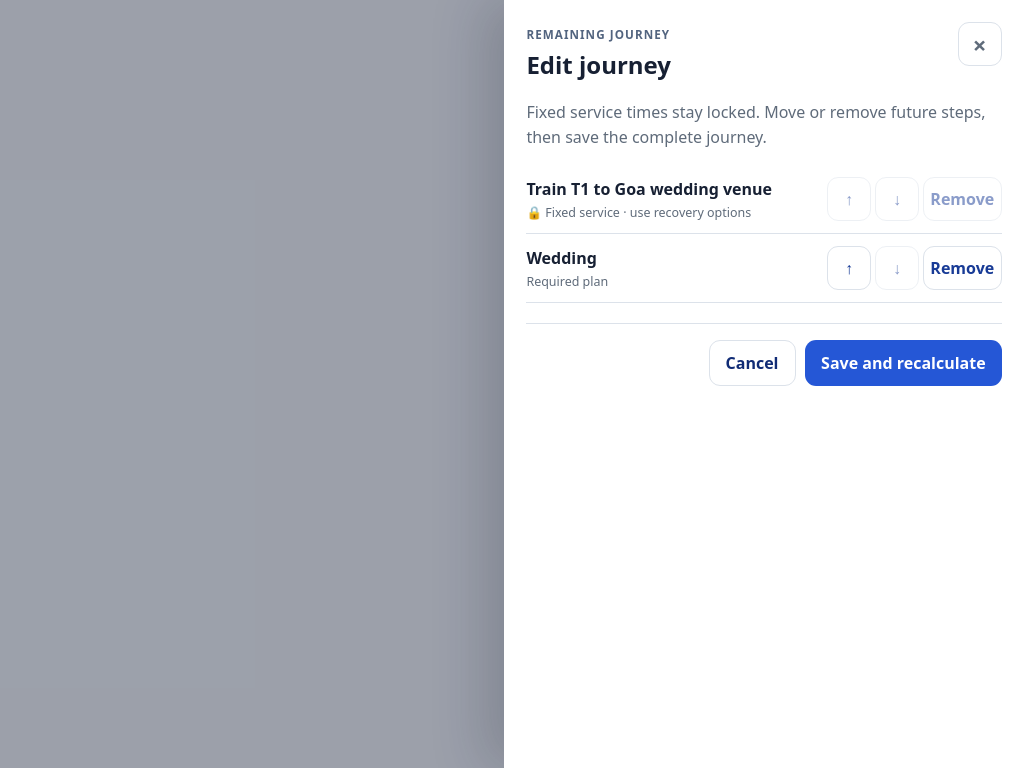
it: journey edit draft › keeps the edited draft and displays actionable validation failure
The image size is (1024, 768).
Click the button "Remove" in the row of "Required plan".
click(962, 268)  # box [923, 246, 1002, 290]
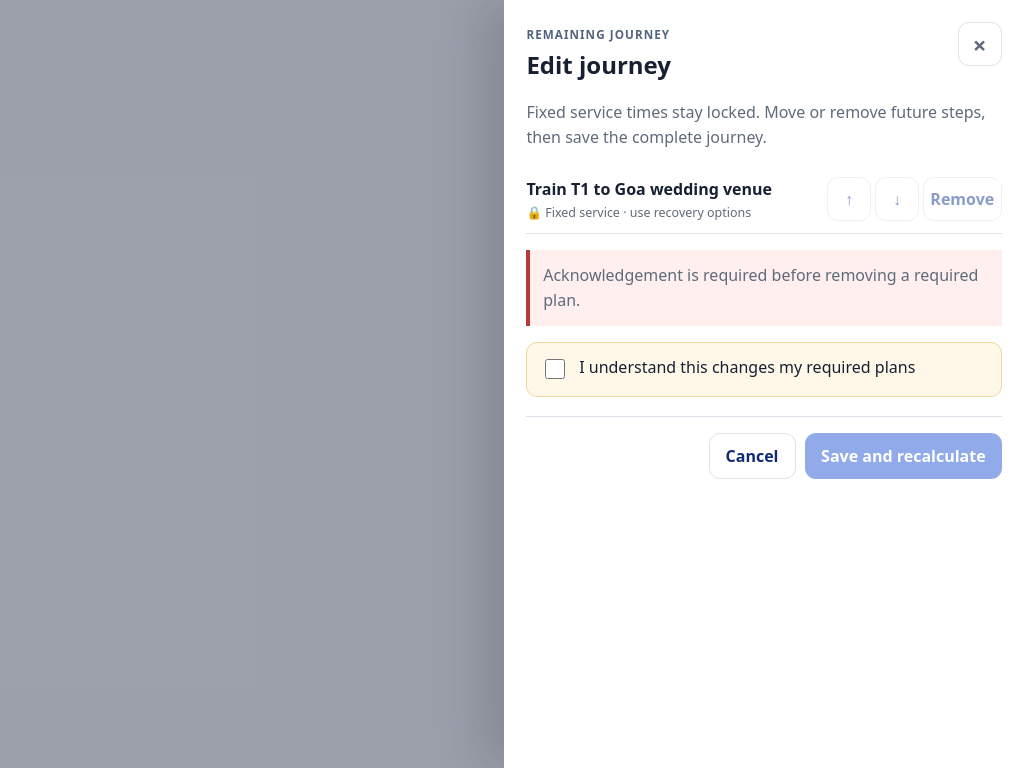
Click the checkbox.
click(555, 369)  # box [545, 359, 565, 379]
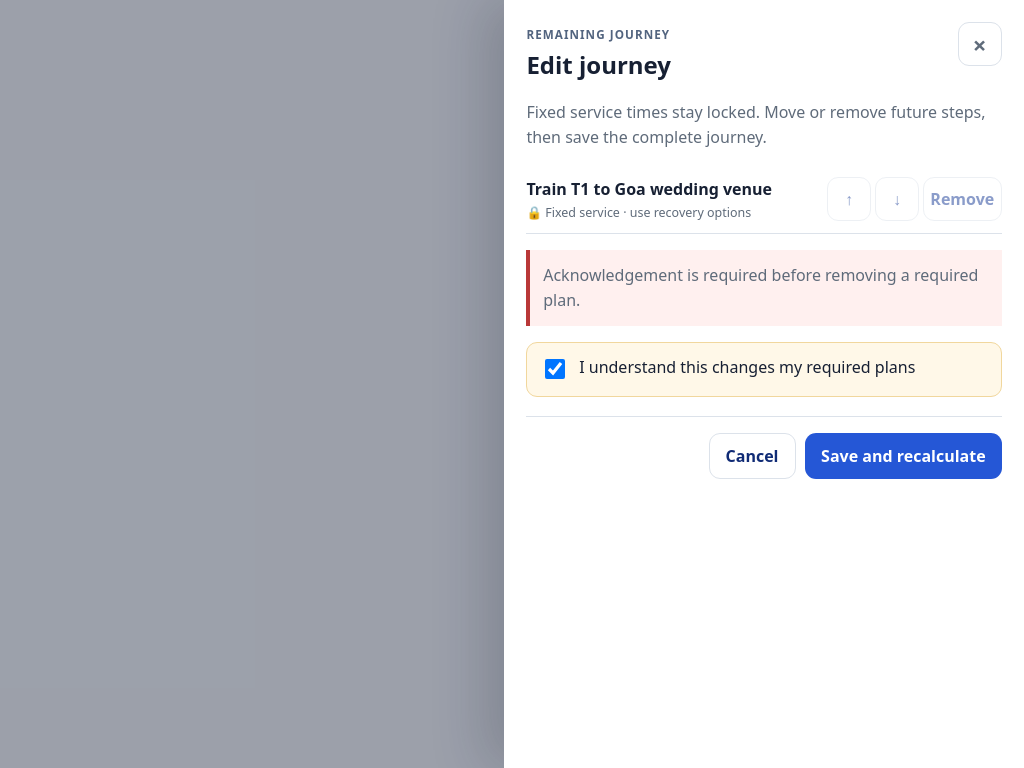
Click the button "Save and recalculate".
click(903, 456)  # box [805, 433, 1002, 479]
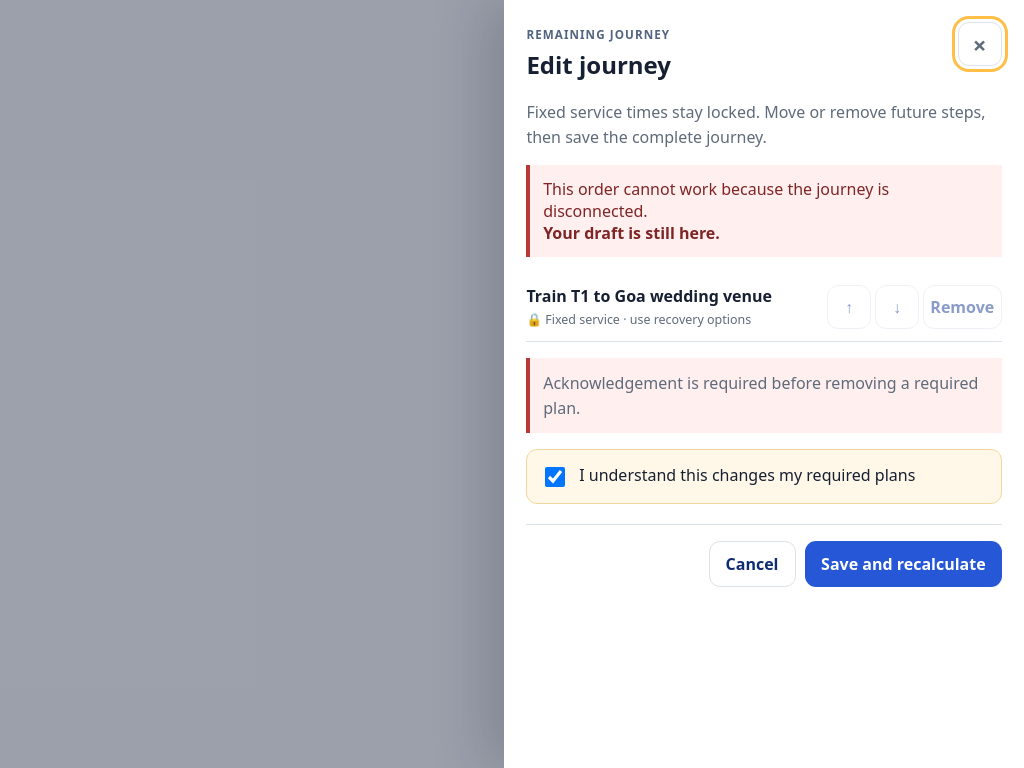
Result: the number of buttons "Remove" is 1 at [923, 285, 1002, 329]
Result: the 1st message shows "This order cannot work" at [543, 178, 889, 222]
Result: the text "Your draft is still here." is shown at [543, 222, 720, 244]
